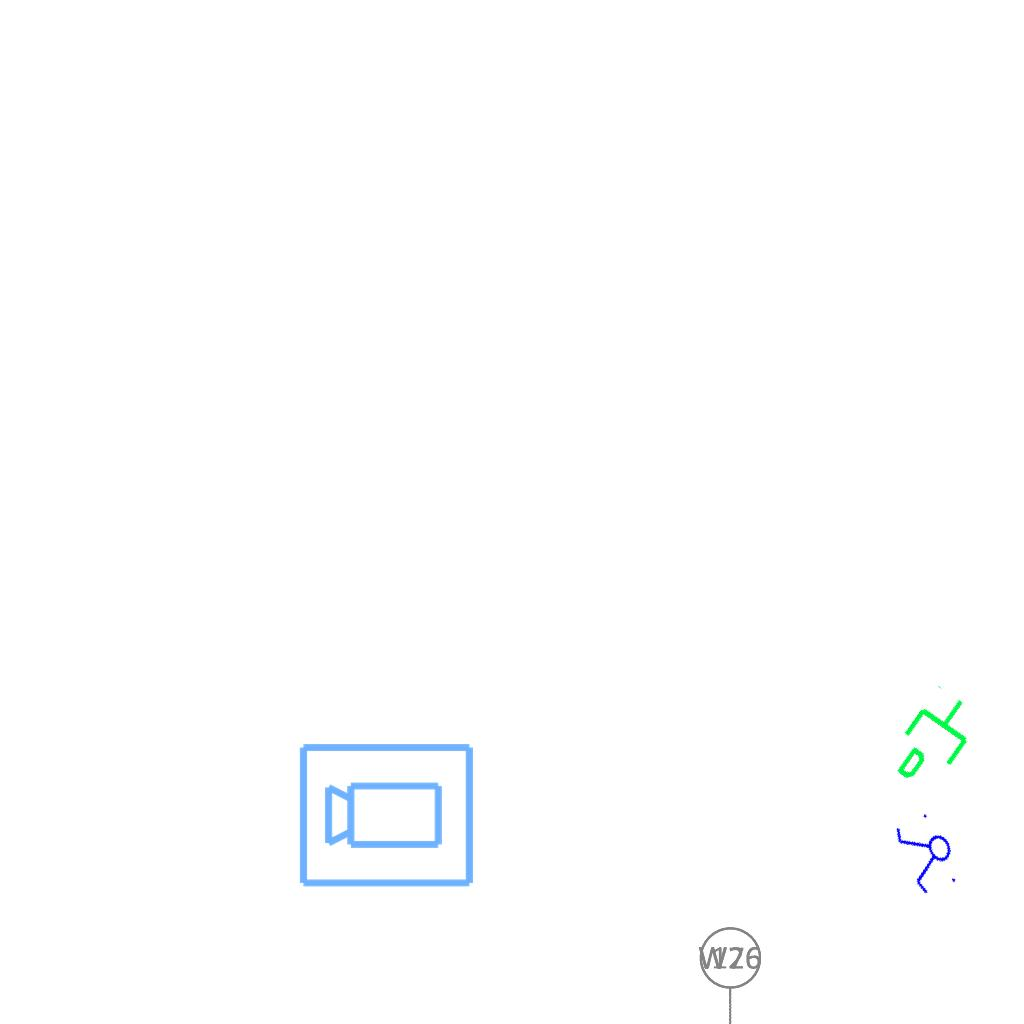Datenanschluss_einfach: (878, 680, 993, 802)
KFO_Kamera_mit_Festobjektiv: (296, 737, 478, 891)
Serienschalter: (888, 805, 968, 903)
